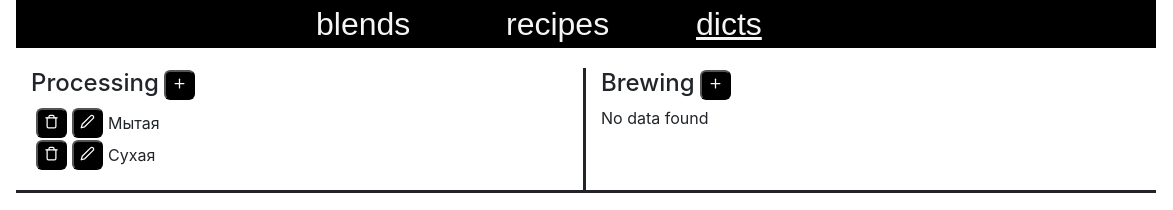
dictionaries page spec › dictionary add value spec › should add a new value
Click the button without text next to "Brewing" at [716, 85], box [700,70,731,100]
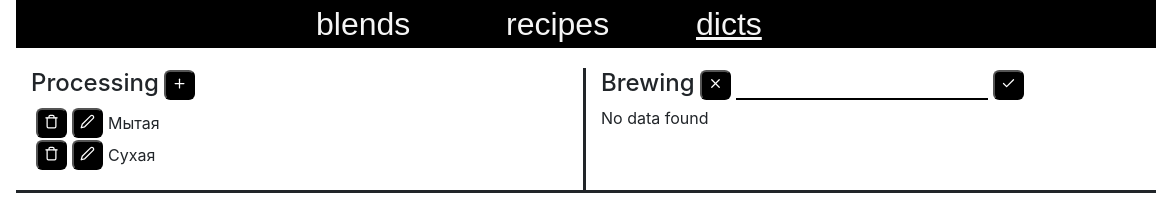
Type "brewing_type" into the field at [862, 86], box [736,72,988,100]
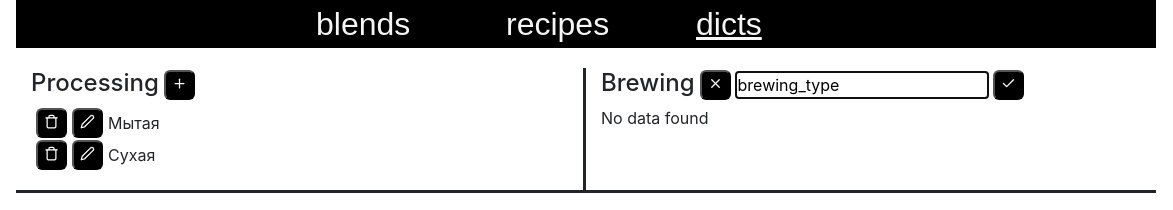
Click the button with test id "button_submit" at [1009, 85], box [993,70,1024,100]
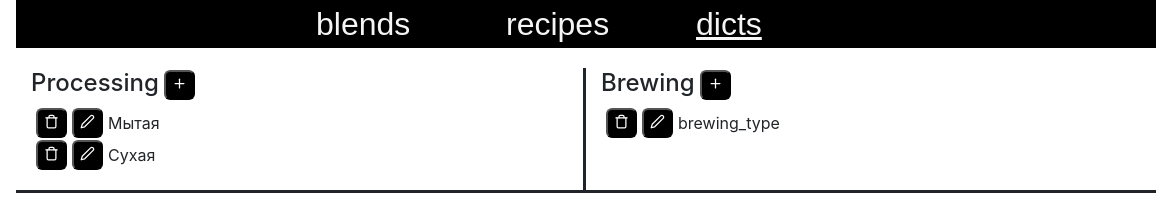
Now the field is gone
Now the button with test id "button_submit" is gone
Now the text "brewing_type" is shown, box [678,113,780,133]
